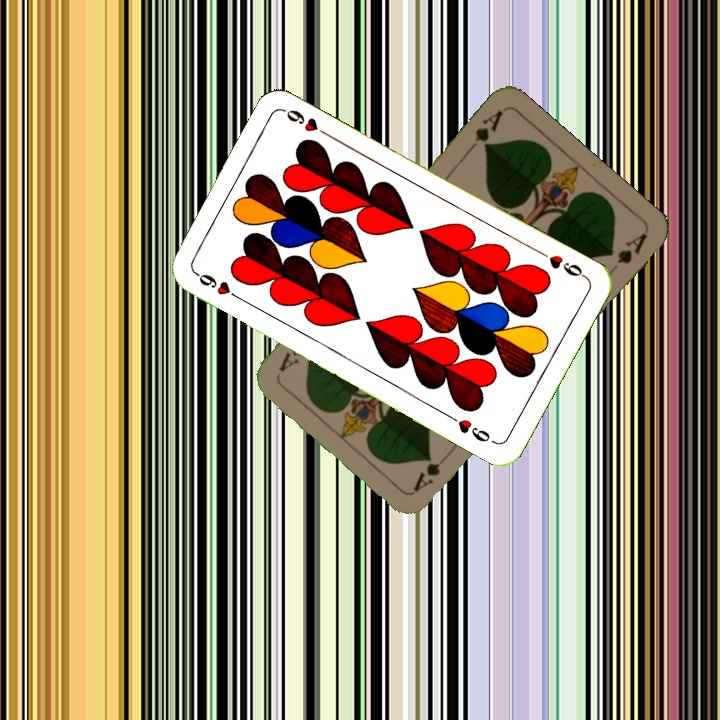GA: (409, 446, 455, 494), (463, 106, 505, 156)
H9: (192, 268, 246, 304), (534, 247, 589, 281)
